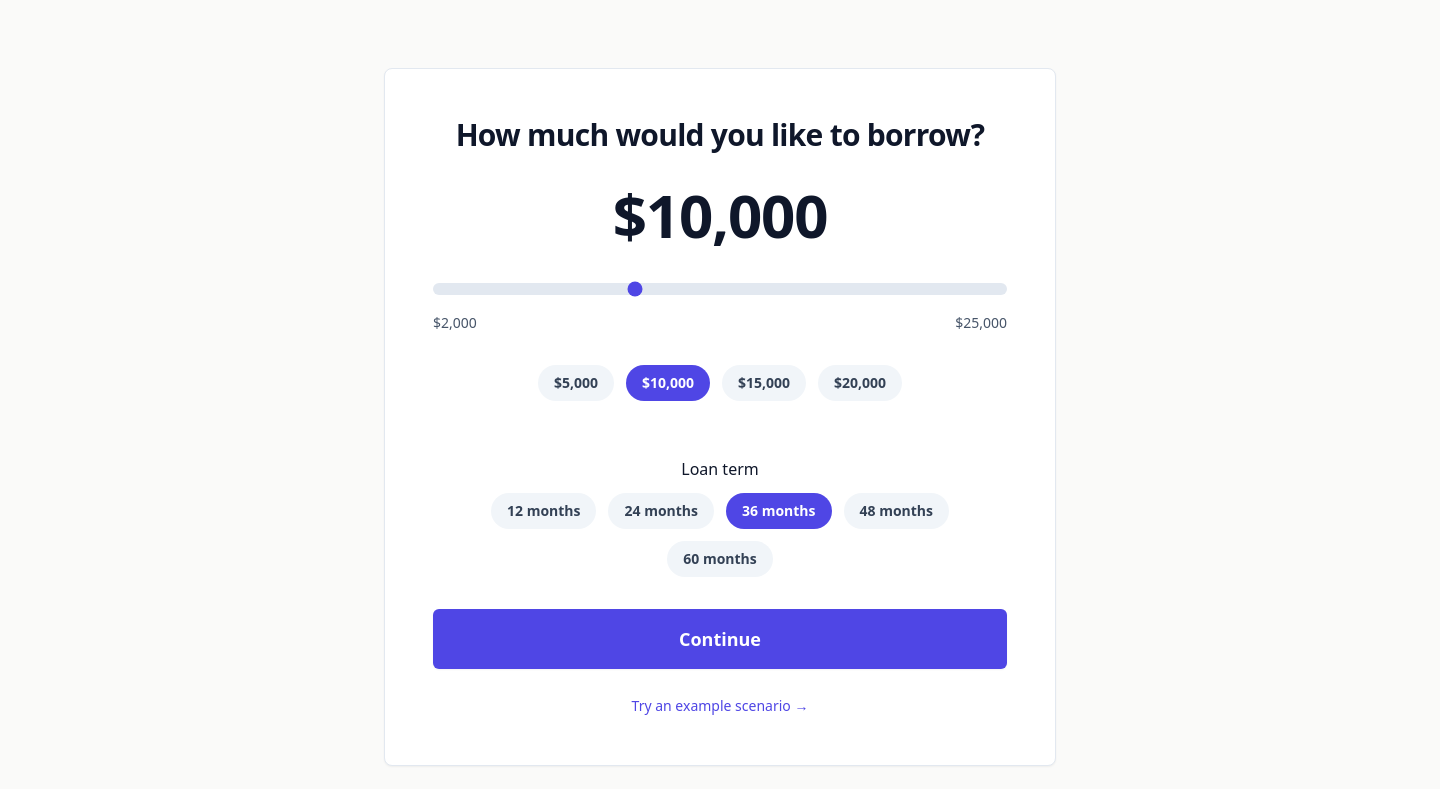
Scenario: LoanWizard › State Management › clears all state when start over is clicked
This screenshot has width=1440, height=789.
Note: Set custom values
Set the slider to "20000" at (878, 289), box [433, 283, 1007, 295]
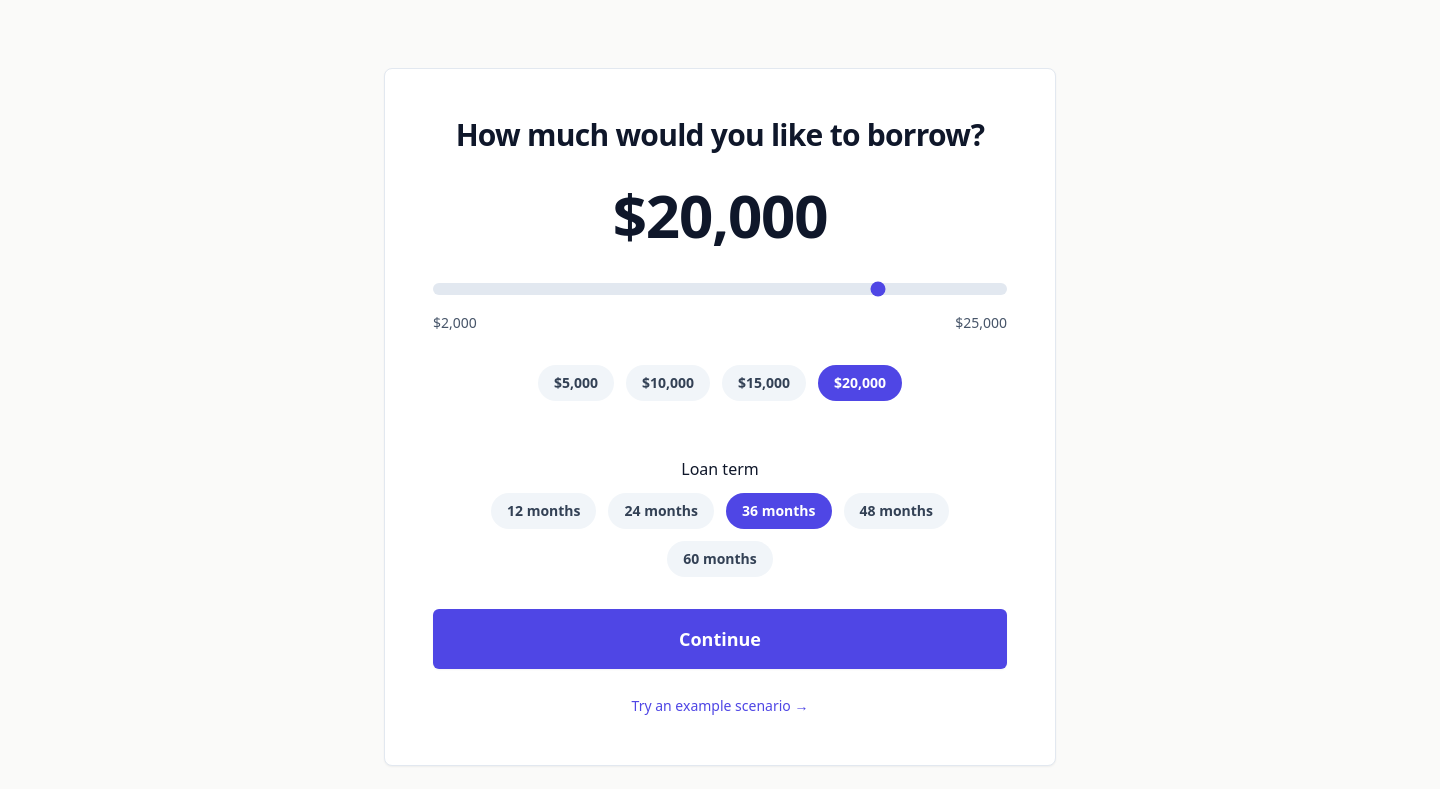
Click the button "Continue".
click(720, 639)  # box [433, 609, 1007, 669]
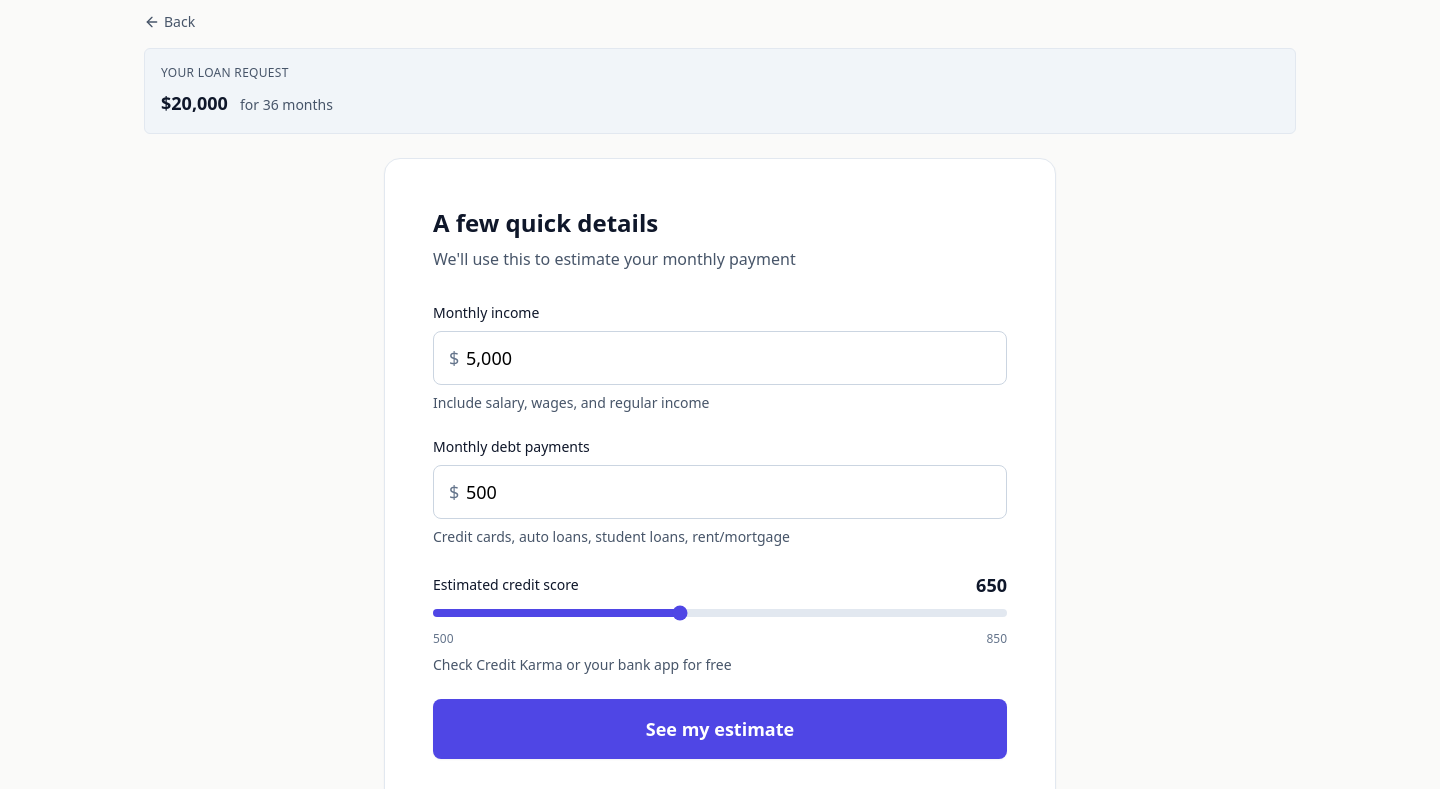
Result: the heading "A few quick details" is shown at [433, 206, 658, 239]
Type "10000" into the field labelled "Monthly income".
click(720, 358); type("10000")  # box [433, 331, 1007, 385]
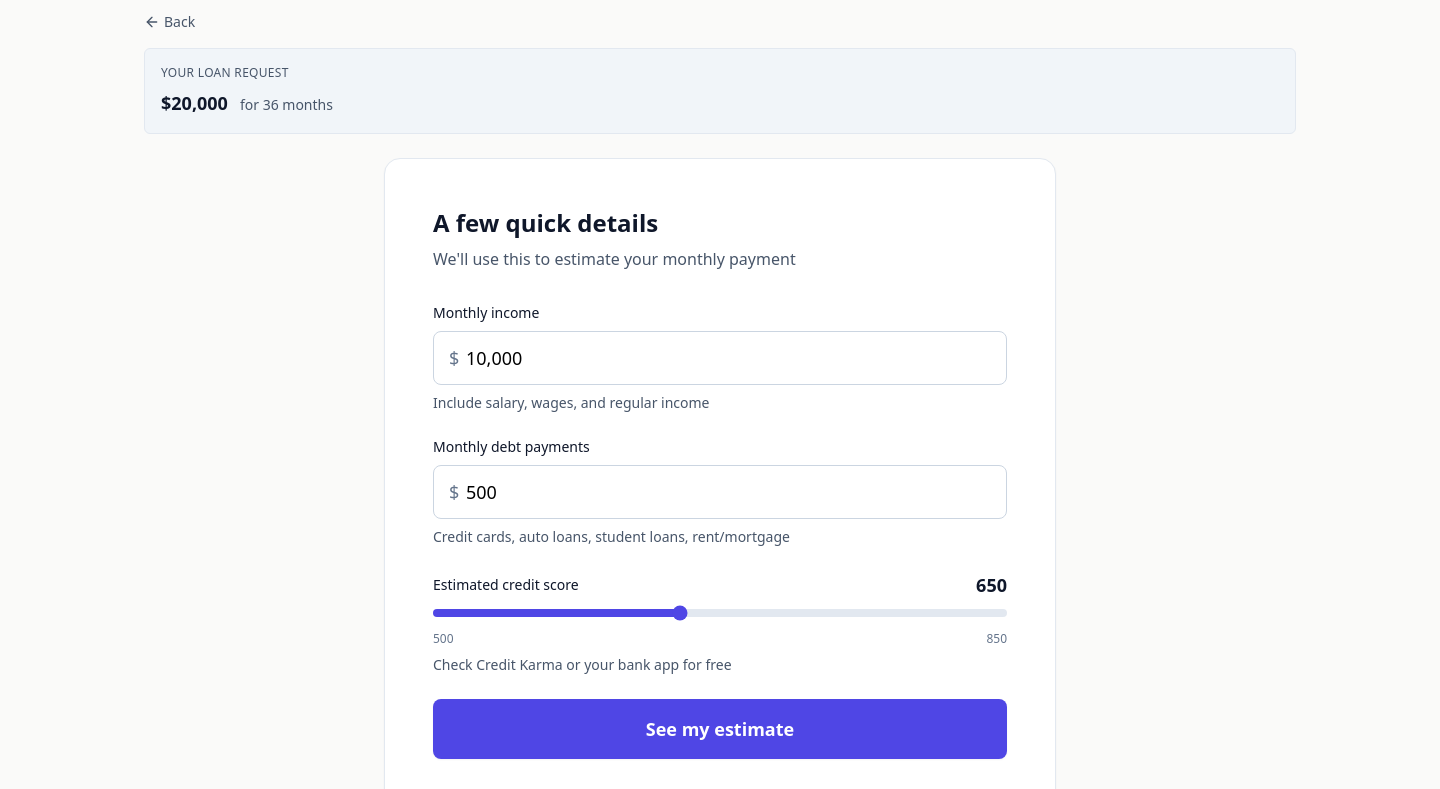
Click the button "See my estimate".
click(720, 729)  # box [433, 699, 1007, 759]
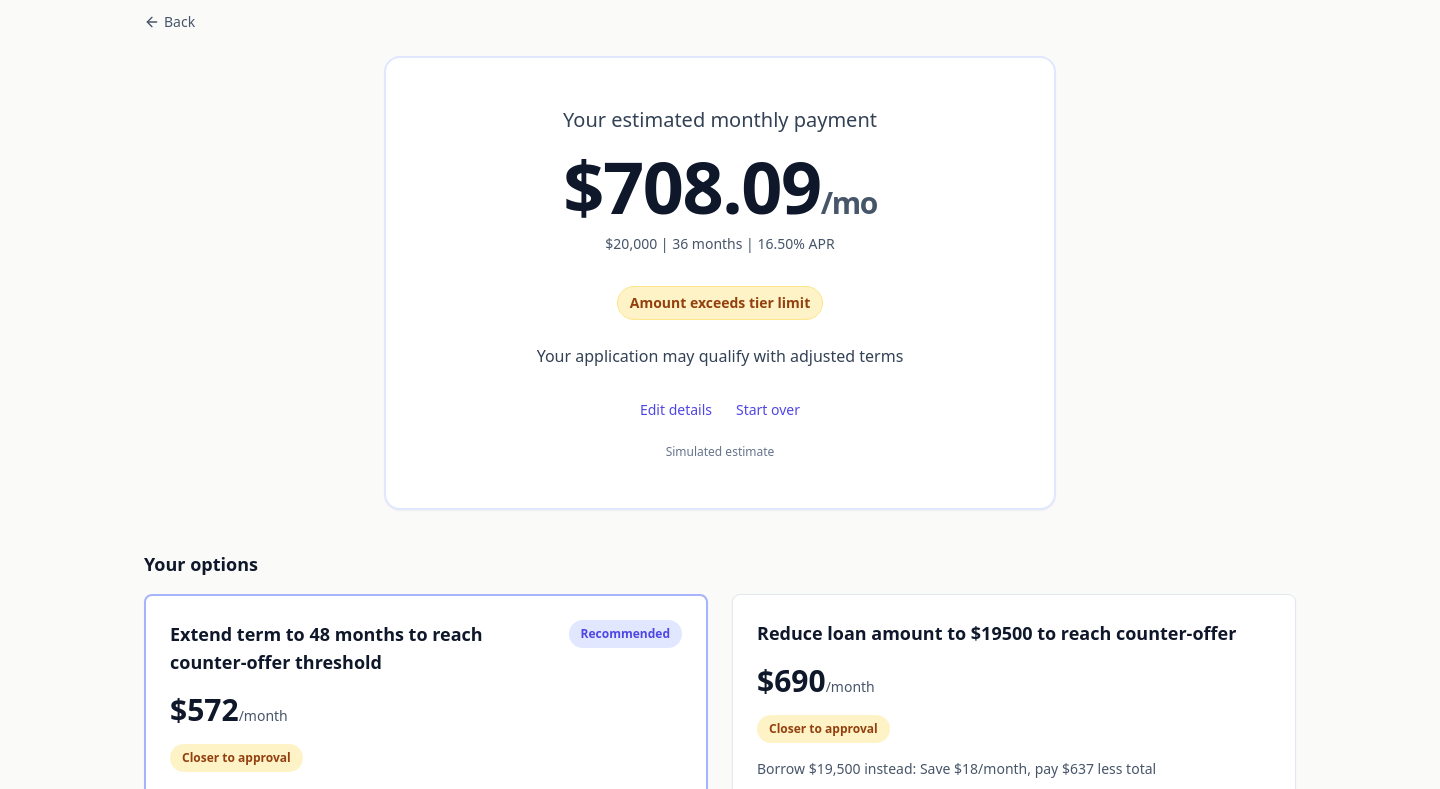
Result: the heading "Your estimated monthly payment" is shown at [563, 106, 877, 133]
Note: Start over
Click the button "Start over".
click(768, 410)  # box [736, 400, 800, 420]
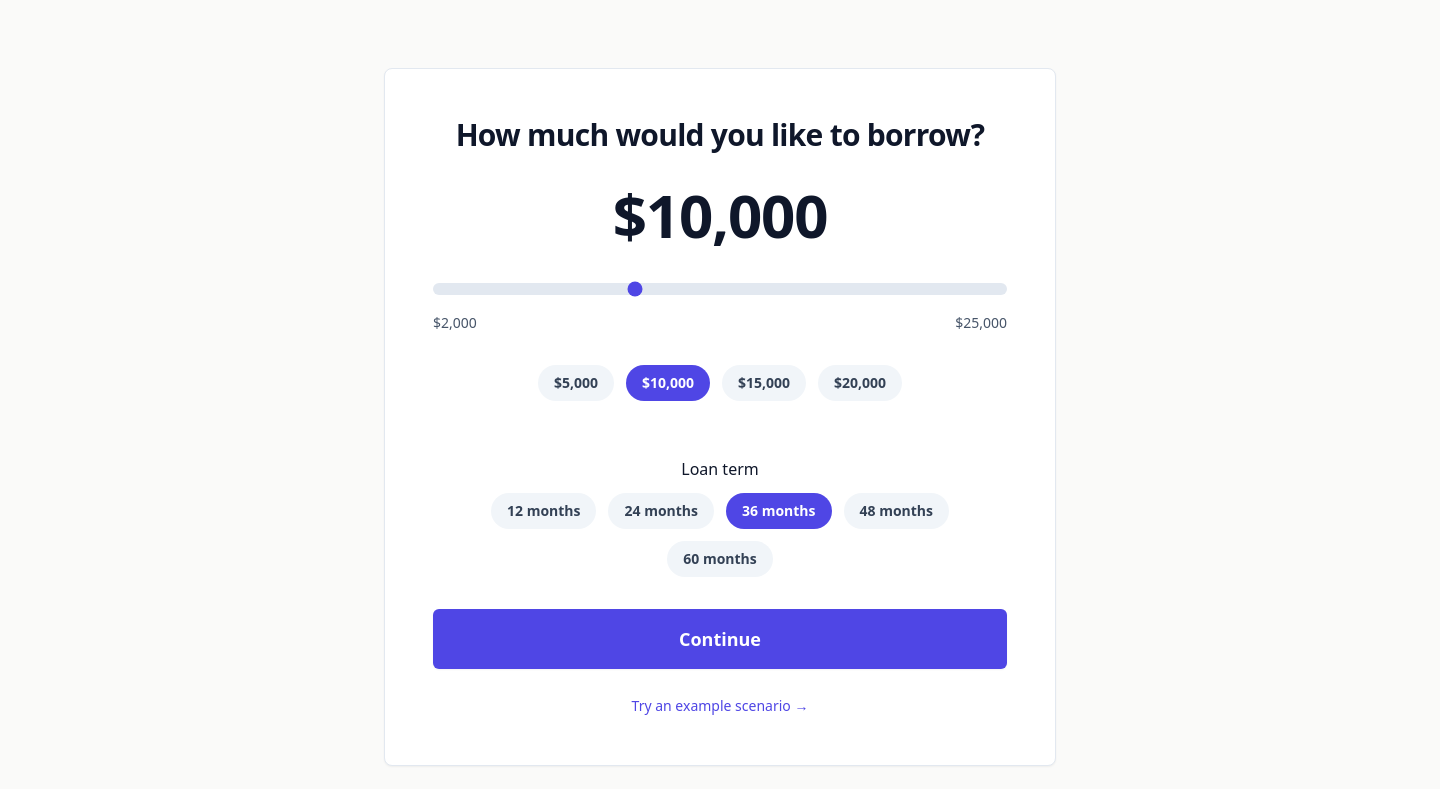
Result: the heading "How much would you like to borrow?" is shown at [433, 117, 1007, 153]
Result: the text "$10,000" is shown at [613, 174, 827, 256]
